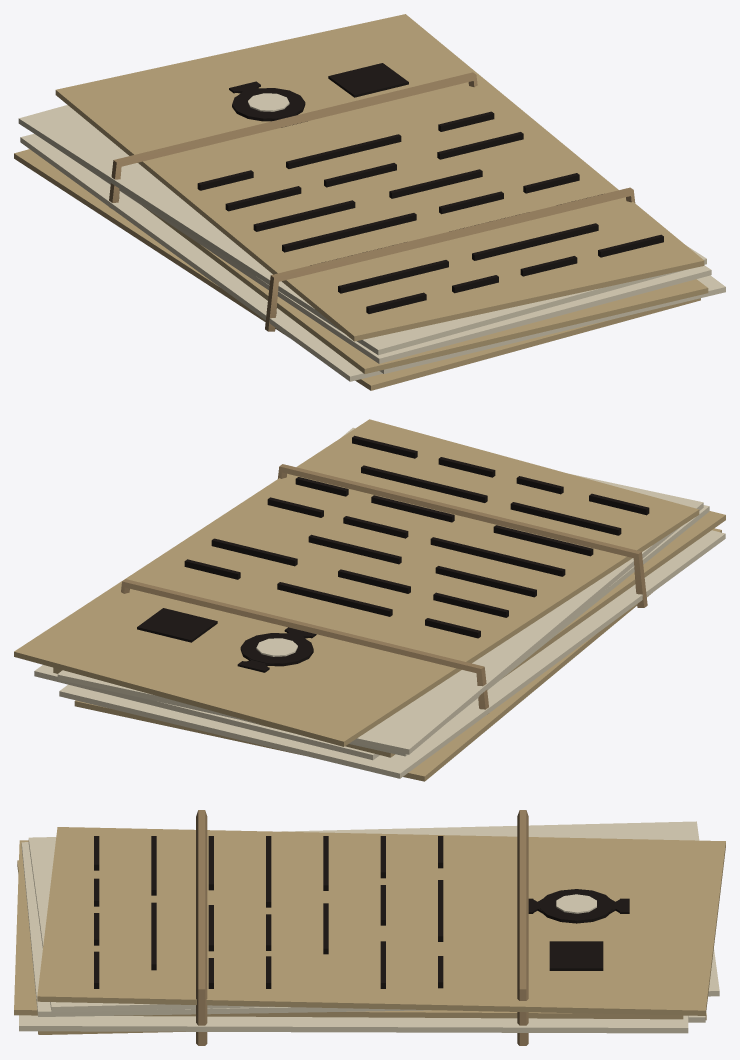
The model's file is lore_cards.glb.
3 renders of one model, top to bottom at view 1: azimuth 30°, elevation 25°; view 2: azimuth 150°, elevation 25°; view 3: azimuth 270°, elevation 25°, orthographic. The views are drawn at different scales.
Parts seen in each view (by area): view 1: teil0, teil1, teil2, teil4, teil3; view 2: teil0, teil1, teil2, teil4, teil3; view 3: teil0, teil1, teil2, teil4, teil3.
Boxes of the visible parts, left/top/right/bottom form: teil0: left=14, top=14, right=708, bottom=390; teil1: left=18, top=105, right=725, bottom=381; teil2: left=197, top=63, right=663, bottom=313; teil4: left=109, top=72, right=635, bottom=331; teil3: left=248, top=93, right=289, bottom=111; teil0: left=14, top=419, right=725, bottom=781; teil1: left=34, top=427, right=725, bottom=778; teil2: left=137, top=435, right=649, bottom=672; teil4: left=121, top=464, right=647, bottom=714; teil3: left=256, top=638, right=297, bottom=656; teil0: left=14, top=827, right=725, bottom=1034; teil1: left=19, top=821, right=719, bottom=1033; teil2: left=94, top=836, right=629, bottom=988; teil4: left=196, top=810, right=528, bottom=1045; teil3: left=556, top=894, right=596, bottom=913.
Size of the model in its own units: 0.0884 by 0.0113 by 0.133.
